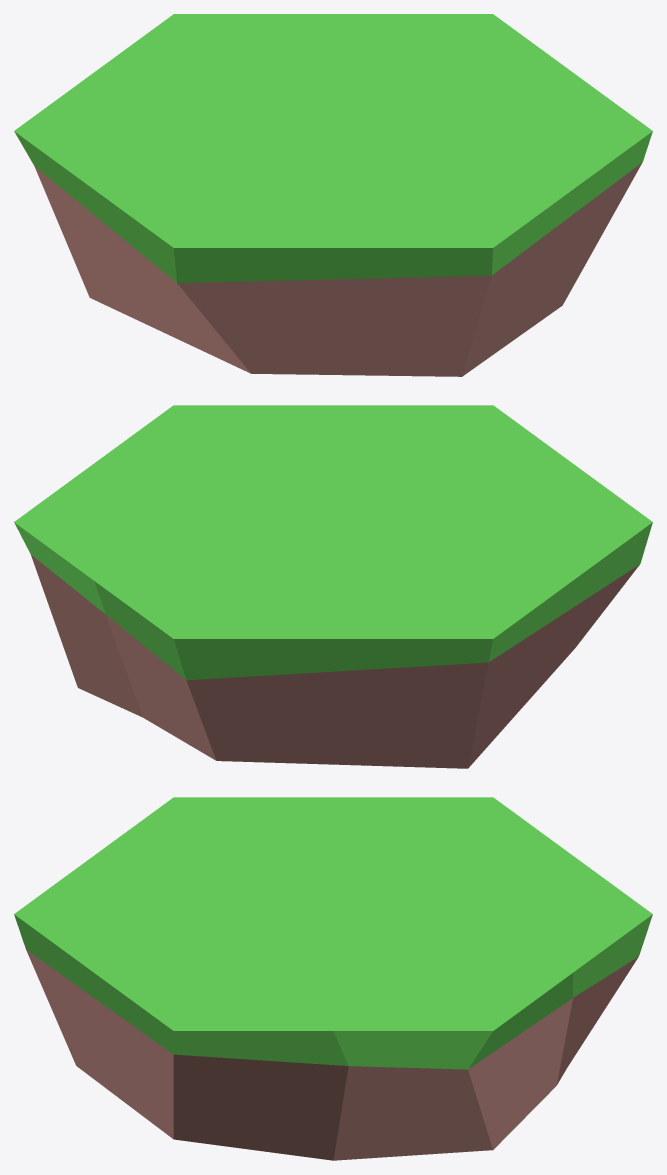
Rendered from Platform.glb.
3 renders of one model, top to bottom at view 1: azimuth 30°, elevation 25°; view 2: azimuth 150°, elevation 25°; view 3: azimuth 270°, elevation 25°, orthographic.
Visible parts, largest first — view 1: Cylinder; view 2: Cylinder; view 3: Cylinder.
Boxes of the visible parts, x1,y1,x2,y2 form: Cylinder: (14, 14, 652, 376); Cylinder: (14, 405, 652, 768); Cylinder: (14, 797, 652, 1160).
Bounding box in the file's own units: 1.73 × 0.5546 × 2.
